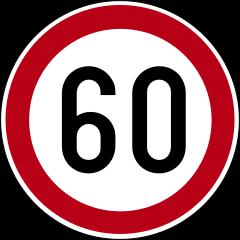Speed Limit -60-: (42, 42, 208, 190)
